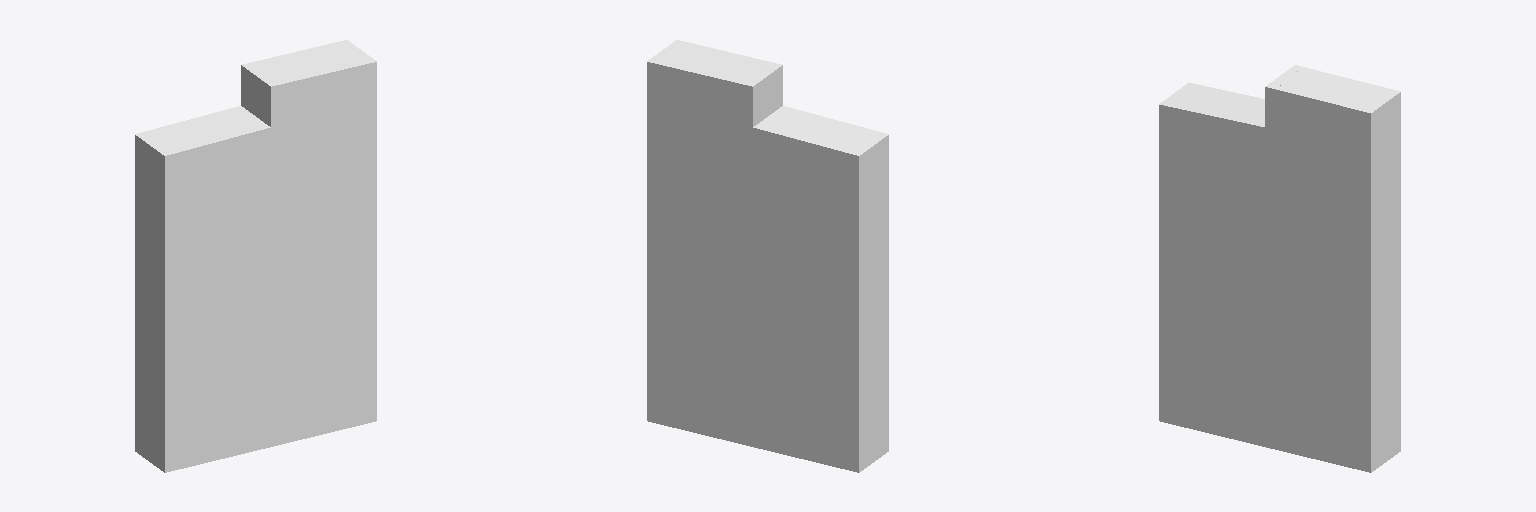
Rendered from ConcreteBlock.obj.
3 views of the same model, side by side, from view 1: azimuth 30°, elevation 25°; view 2: azimuth 150°, elevation 25°; view 3: azimuth 330°, elevation 25° (orthographic).
Visible parts, largest first — view 1: ConcreteBlock.obj; view 2: ConcreteBlock.obj; view 3: ConcreteBlock.obj.
Boxes of the visible parts, x1,y1,x2,y2 form: ConcreteBlock.obj: [135, 40, 376, 472]; ConcreteBlock.obj: [647, 40, 888, 472]; ConcreteBlock.obj: [1159, 65, 1400, 472].
Size of the model in its own units: 0.88 by 1.43 by 0.215.